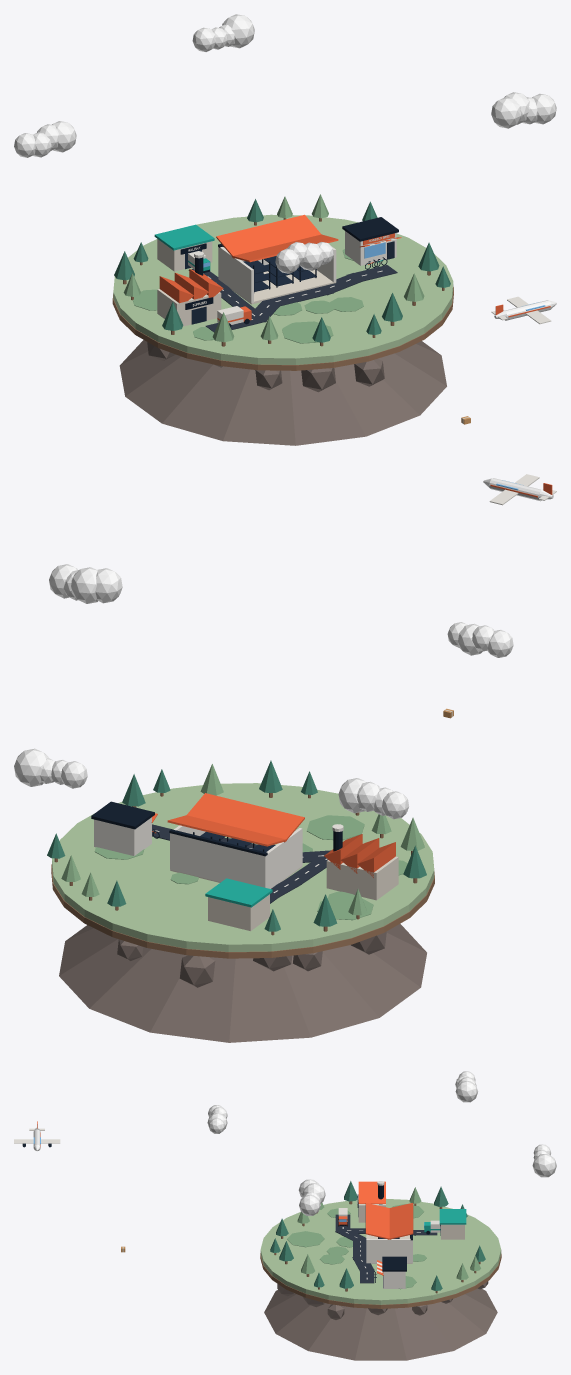
Rendered from world.glb.
3 renders of one model, top to bottom at view 1: azimuth 30°, elevation 25°; view 2: azimuth 150°, elevation 25°; view 3: azimuth 270°, elevation 25°, orthographic. The views are drawn at different scales.
Parts seen in each view (by area): view 1: IslandRock, IslandTop, IslandEdge, RoofPanelR, WarehouseLeft, WarehouseFloor, FactoryBody, HalifaxRoof, ShopRoof, RoofPanelL, ShopBody, HalifaxBody (+6 smaller); view 2: IslandRock, IslandTop, WarehouseBack, IslandEdge, RoofPanelL, FactoryBody, ShopBody, HalifaxBody, WarehouseLeft, RoofPanelR, HalifaxRoof, ShopRoof (+4 smaller); view 3: IslandTop, IslandRock, IslandEdge, WarehouseRight, RoofPanelL, RoofPanelR, Cloud2Puff3, HalifaxRoof, ShopBody, ShopRoof, Cloud0Puff3, HalifaxBody (+2 smaller).
Boxes of the visible parts, <box> form: IslandRock: <box>119,340,446,445</box>; IslandTop: <box>113,214,453,364</box>; IslandEdge: <box>112,287,453,370</box>; RoofPanelR: <box>216,214,321,258</box>; WarehouseLeft: <box>218,247,253,303</box>; WarehouseFloor: <box>230,270,335,304</box>; FactoryBody: <box>157,289,221,326</box>; HalifaxRoof: <box>154,224,214,250</box>; ShopRoof: <box>342,217,398,241</box>; RoofPanelL: <box>232,234,338,262</box>; ShopBody: <box>345,231,396,265</box>; HalifaxBody: <box>157,239,212,271</box>; IslandRock: <box>59,924,426,1042</box>; IslandTop: <box>52,783,434,951</box>; WarehouseBack: <box>170,833,265,887</box>; IslandEdge: <box>51,864,434,958</box>; RoofPanelL: <box>186,793,304,842</box>; FactoryBody: <box>326,856,398,900</box>; ShopBody: <box>94,817,151,855</box>; HalifaxBody: <box>208,894,269,931</box>; WarehouseLeft: <box>265,828,302,888</box>; RoofPanelR: <box>167,815,286,846</box>; HalifaxRoof: <box>205,878,272,907</box>; ShopRoof: <box>91,801,154,829</box>; IslandTop: <box>260,1198,501,1304</box>; IslandRock: <box>264,1288,497,1360</box>; IslandEdge: <box>260,1253,501,1308</box>; WarehouseRight: <box>366,1239,412,1263</box>; RoofPanelL: <box>365,1203,390,1239</box>; RoofPanelR: <box>388,1203,413,1239</box>; Cloud2Puff3: <box>532,1154,556,1177</box>; HalifaxRoof: <box>439,1209,466,1224</box>; ShopBody: <box>383,1271,405,1288</box>; ShopRoof: <box>382,1256,406,1271</box>; Cloud0Puff3: <box>455,1081,477,1102</box>; HalifaxBody: <box>441,1224,464,1239</box>.
Bounding box in the file's own units: 40.51 × 24.67 × 63.19.
